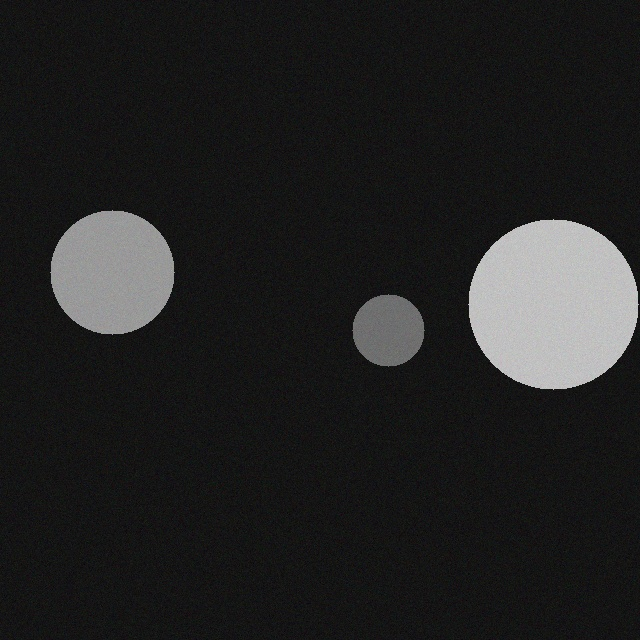circle: (455, 204, 625, 374), (37, 195, 161, 319), (339, 279, 411, 351)
